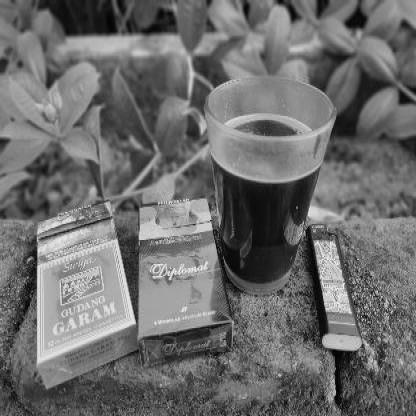objects: (36, 201, 138, 389), (137, 195, 233, 367)
